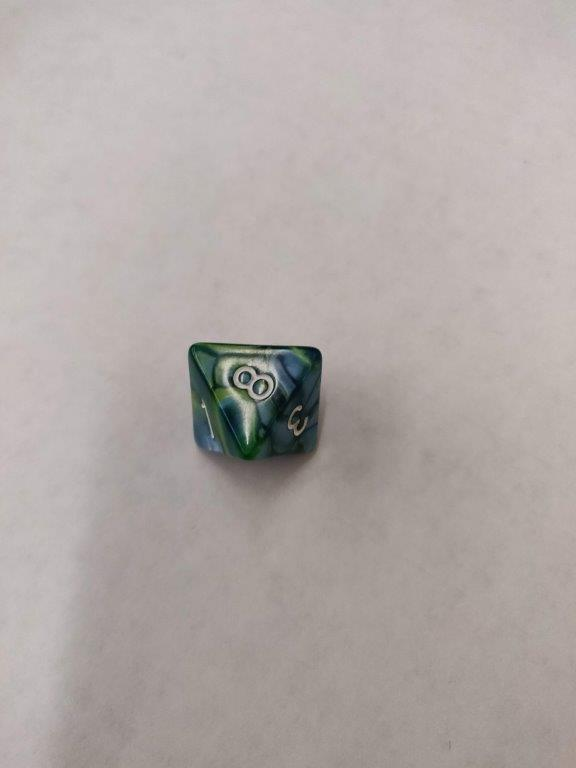d8-8: (184, 340, 325, 458)
